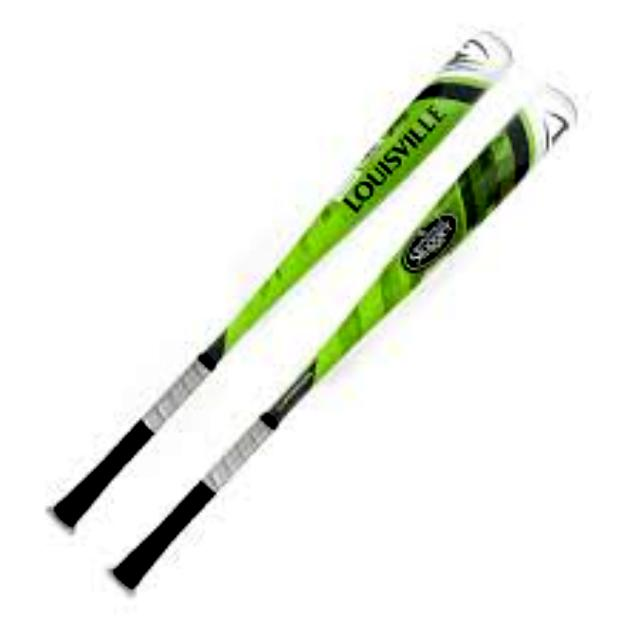baseball bat: (97, 75, 590, 599), (33, 22, 519, 533)
